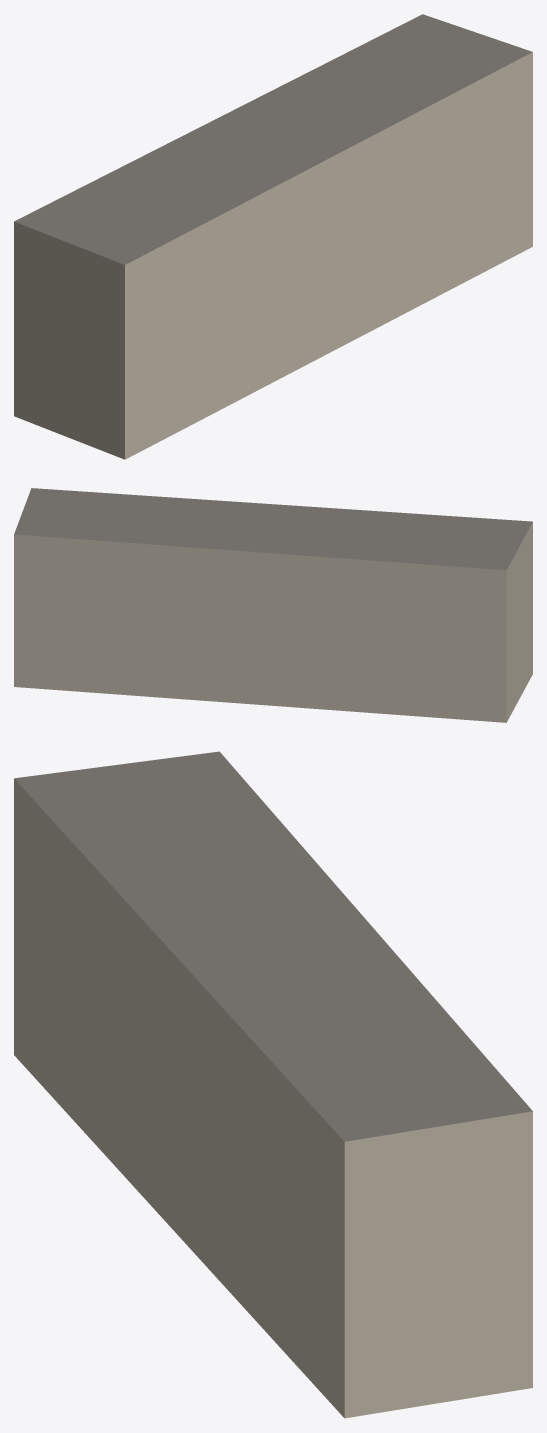
The picture shows the model from 3 angles, top to bottom: view 1: azimuth 30°, elevation 25°; view 2: azimuth 150°, elevation 25°; view 3: azimuth 270°, elevation 25°; orthographic projection. The views are drawn at different scales.
Visible parts, largest first — view 1: HP-w505661369; view 2: HP-w505661369; view 3: HP-w505661369.
Boxes of the visible parts, x1,y1,x2,y2 form: HP-w505661369: (14,14,532,459); HP-w505661369: (14,488,532,722); HP-w505661369: (14,751,532,1418).
Size of the model in its own units: 36.3 by 12 by 20.4.
